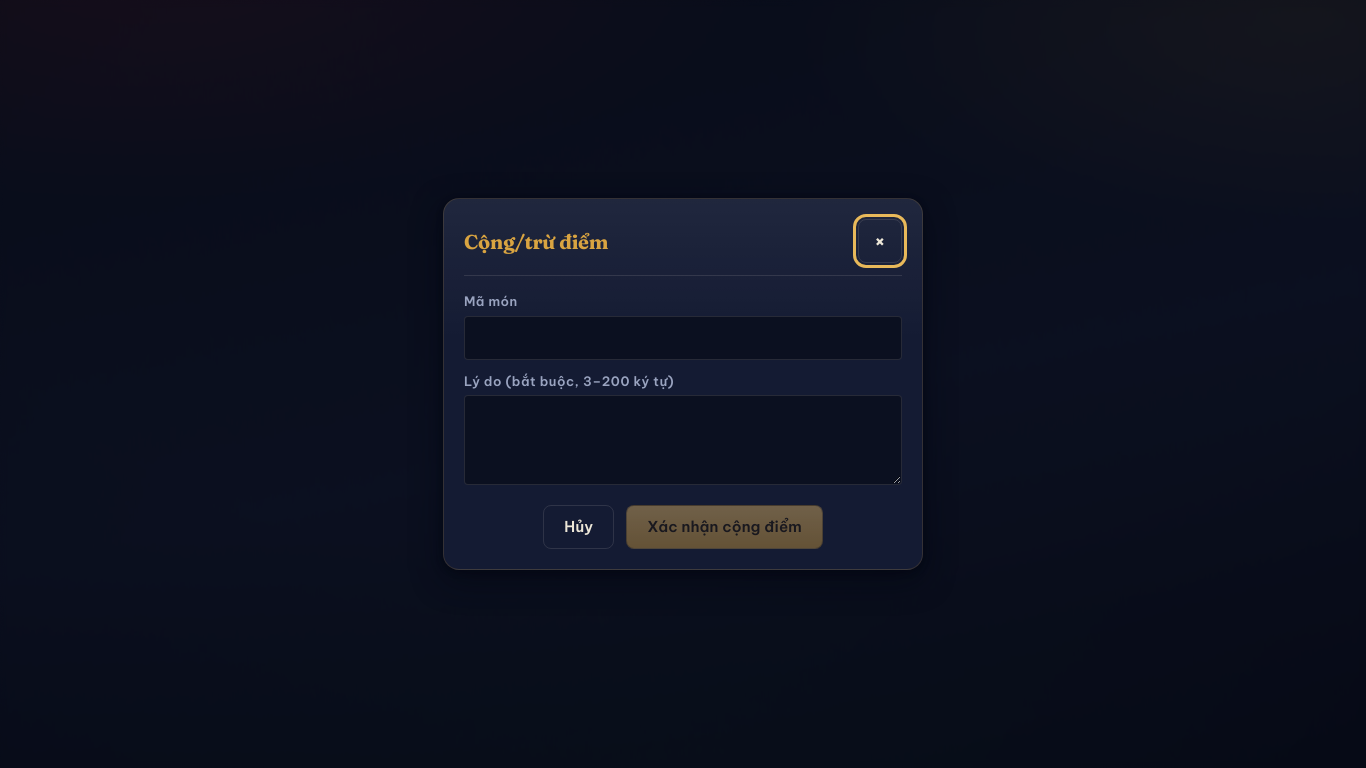
it: ReasonDialog › with an item field, wants an item id
The image size is (1366, 768).
Type "quà" into the text box labelled "Lý do (bắt buộc, 3–200 ký tự)" at (683, 440), box [464,395,902,485]
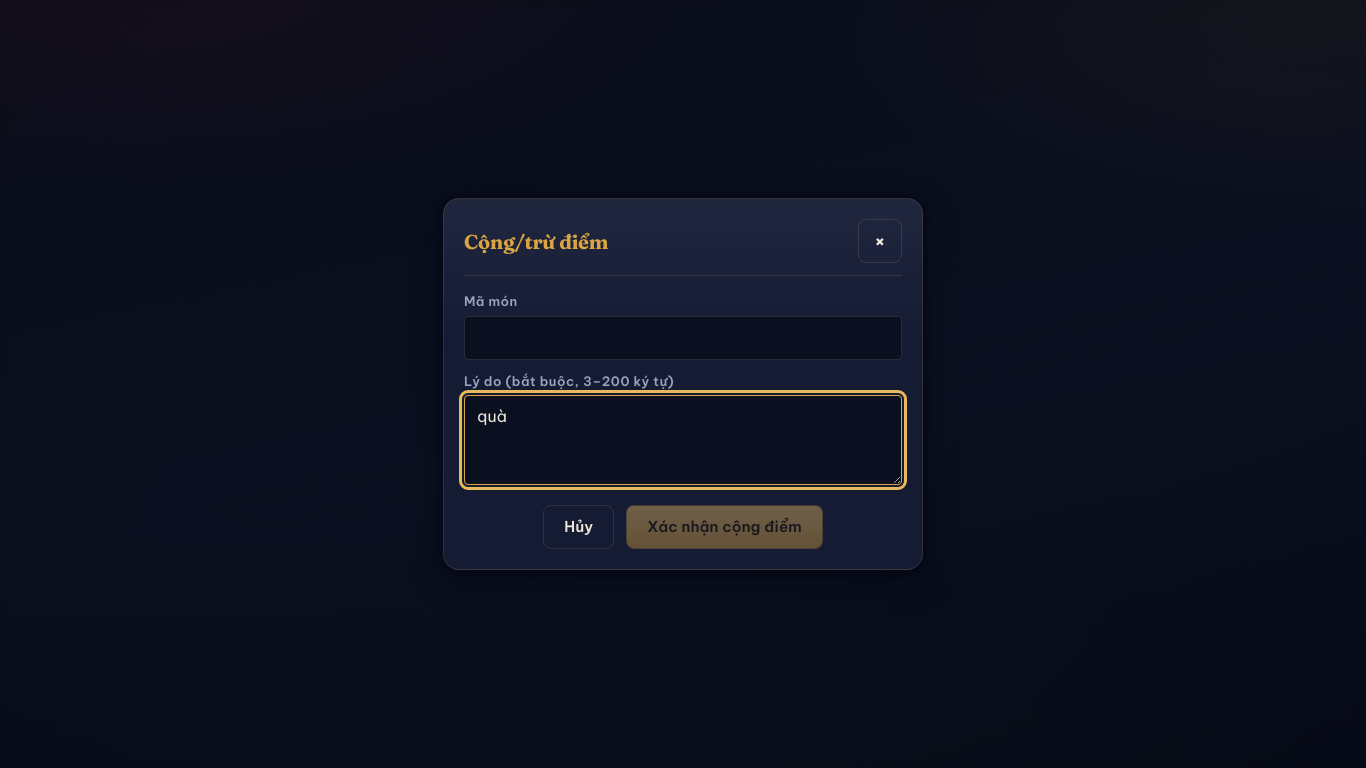
Expected: the button "Xác nhận cộng điểm" is disabled, [626,505,823,549]
Type "hair.bob" into the field labelled "Mã món" at (683, 338), box [464,316,902,360]
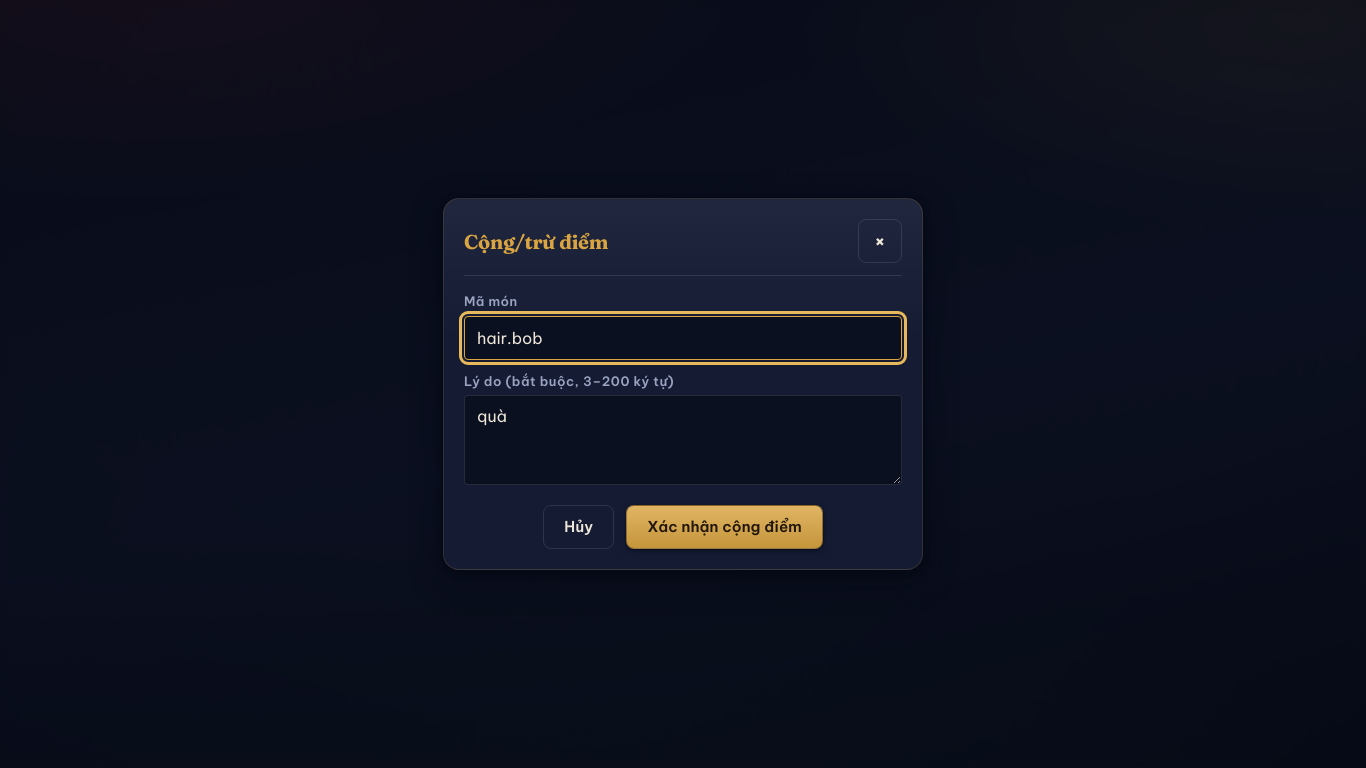
Expected: the button "Xác nhận cộng điểm" is enabled, [626,505,823,549]
